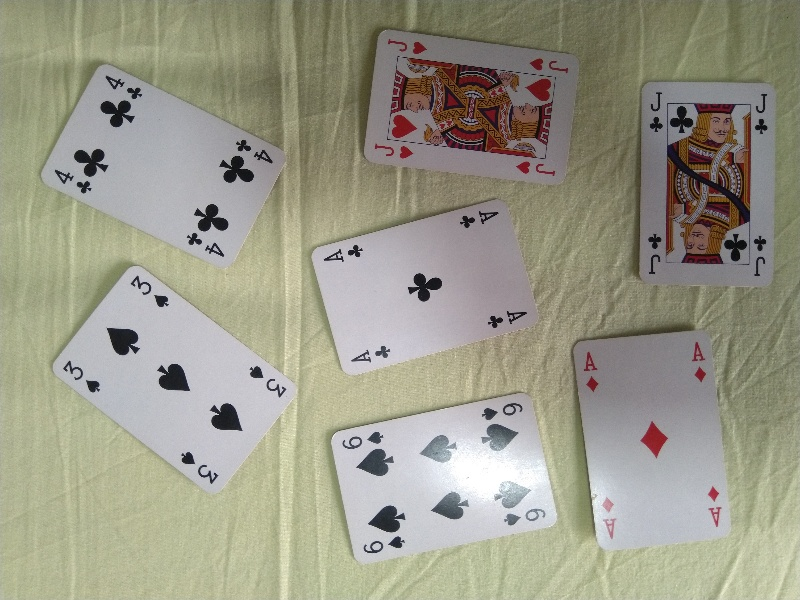3s: (126, 272, 172, 310), (62, 358, 102, 395), (247, 363, 288, 399), (178, 450, 219, 485)
4c: (103, 72, 146, 103), (186, 229, 226, 260), (52, 166, 94, 194), (235, 135, 274, 165)
6s: (480, 400, 525, 422), (361, 534, 406, 556), (341, 429, 386, 450), (502, 507, 549, 526)
Ac: (321, 242, 364, 264), (457, 209, 501, 230), (486, 309, 530, 330), (349, 345, 393, 364)
Ad: (598, 495, 621, 542), (581, 347, 602, 395), (705, 484, 725, 530), (689, 339, 708, 384)
Jc: (644, 230, 663, 280), (647, 88, 666, 134), (753, 89, 770, 137), (752, 234, 769, 280)
Jh: (514, 157, 561, 182), (383, 35, 430, 58), (373, 142, 418, 163), (528, 56, 571, 77)
